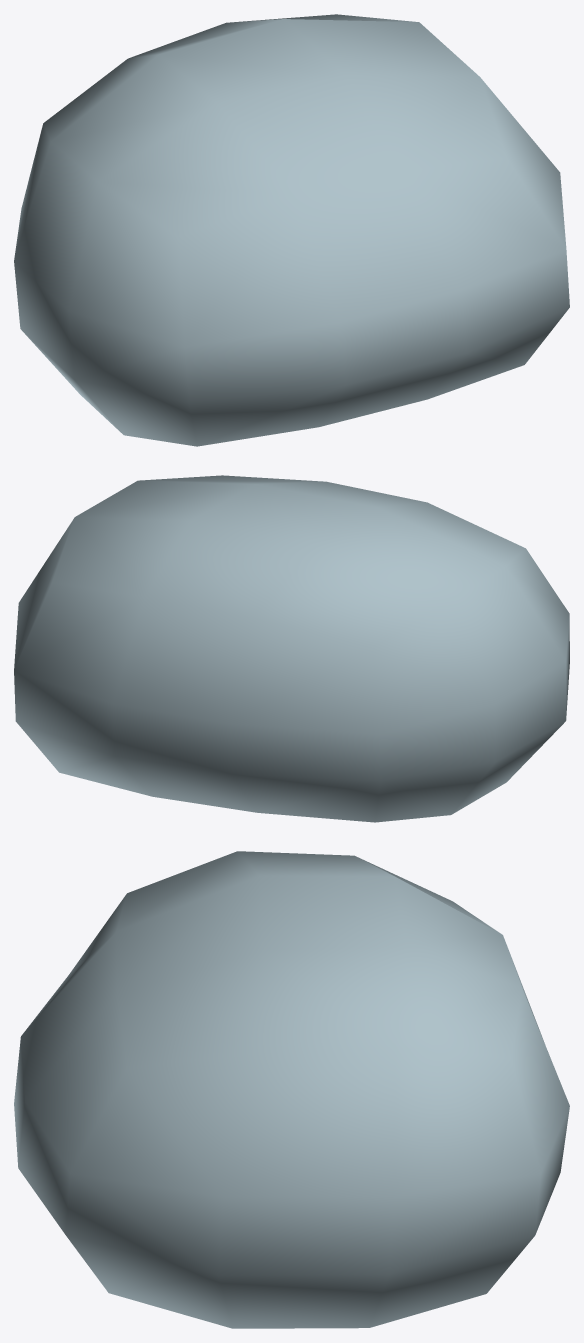
File: Rock_A_02_LOD2.gltf
The picture shows the model from 3 angles, top to bottom: view 1: azimuth 30°, elevation 25°; view 2: azimuth 150°, elevation 25°; view 3: azimuth 270°, elevation 25°; orthographic projection. The views are drawn at different scales.
Visible parts, largest first — view 1: Rock_A_02_LOD2_Cube.737; view 2: Rock_A_02_LOD2_Cube.737; view 3: Rock_A_02_LOD2_Cube.737.
Boxes of the visible parts, x1,y1,x2,y2 form: Rock_A_02_LOD2_Cube.737: (14,14,569,446); Rock_A_02_LOD2_Cube.737: (14,475,569,822); Rock_A_02_LOD2_Cube.737: (14,851,569,1328).
Bounding box in the file's own units: 2.7 × 1.5 × 2.38.
Materials: 1 (1 with a texture image).
